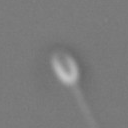abnormal: (55, 84, 107, 128)
